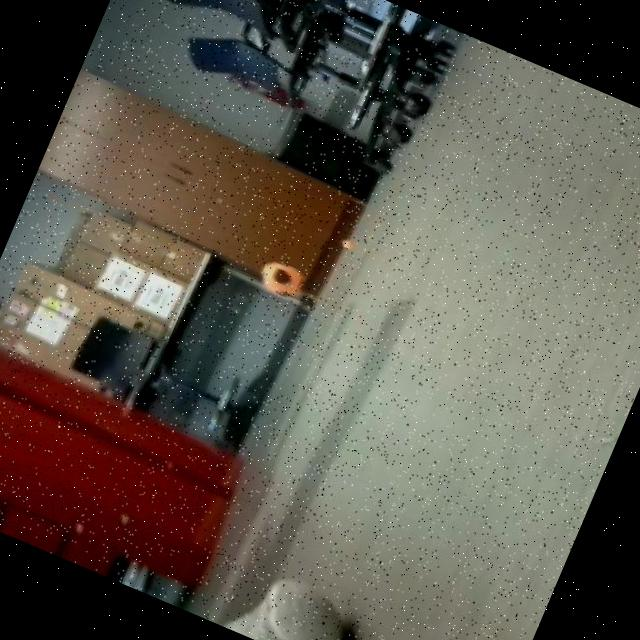ping-pong-ball: (246, 251, 309, 306), (334, 234, 362, 258)
